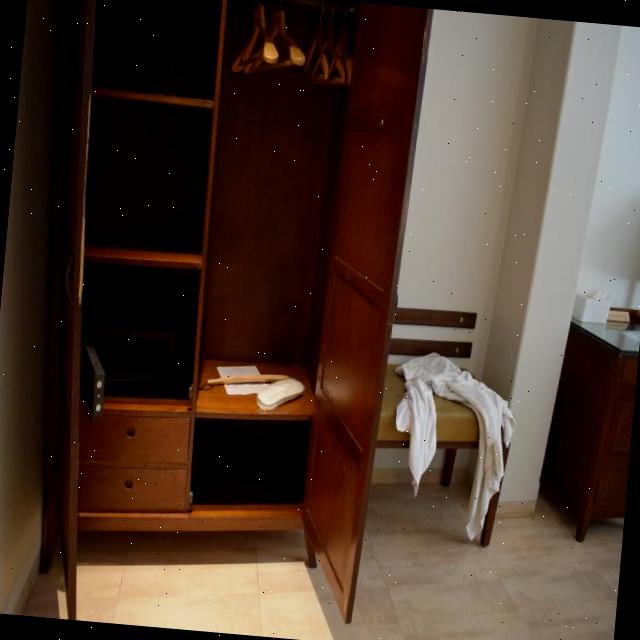chair: (368, 291, 523, 550)
disorganized_towel: (388, 351, 513, 541)
